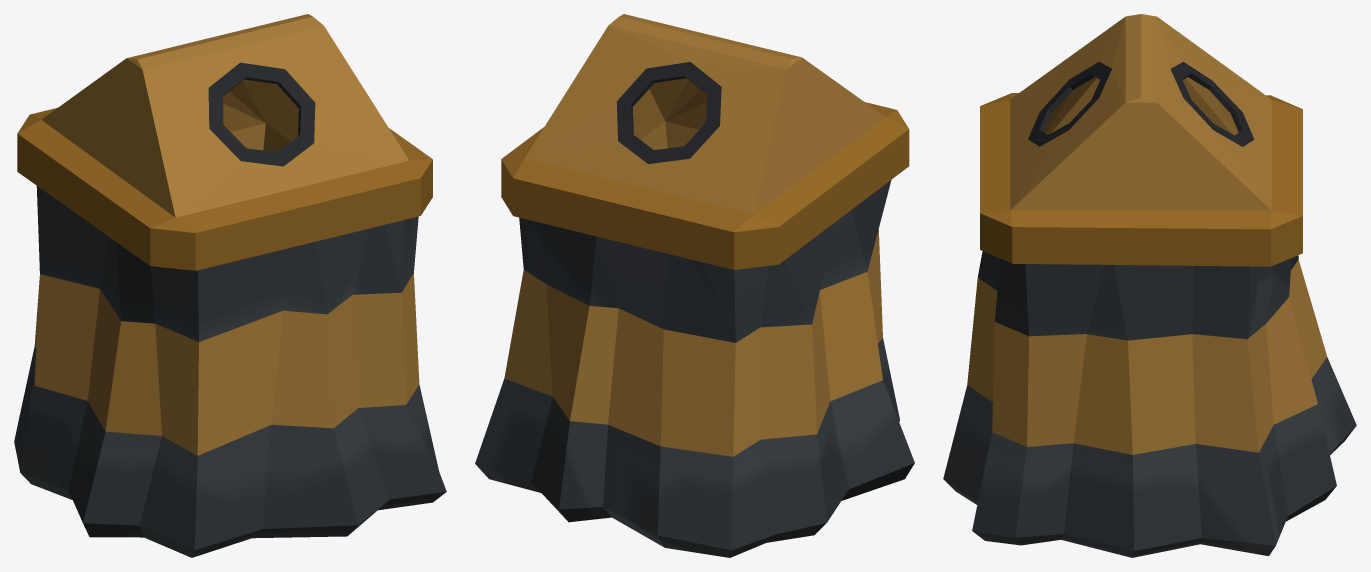
Rendered from SM_Prop_Rubbish_Bin_01.glb.
3 renders of one model, left to right at view 1: azimuth 30°, elevation 25°; view 2: azimuth 150°, elevation 25°; view 3: azimuth 270°, elevation 25°, orthographic. The views are drawn at different scales.
Visible parts, largest first — view 1: SM_Prop_Rubbish_Bin_01; view 2: SM_Prop_Rubbish_Bin_01; view 3: SM_Prop_Rubbish_Bin_01.
Part boxes in pixels (x1,y1,x2,y2): SM_Prop_Rubbish_Bin_01: [14, 14, 446, 557]; SM_Prop_Rubbish_Bin_01: [475, 14, 914, 557]; SM_Prop_Rubbish_Bin_01: [943, 14, 1356, 557].
Size of the model in its own units: 111 by 133 by 116.
1 material, 1 textured.
